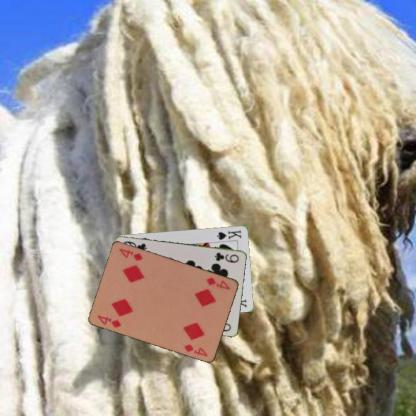4d: (204, 274, 231, 290), (95, 312, 122, 328)
9c: (213, 250, 240, 264)
Ks: (214, 227, 243, 241)
